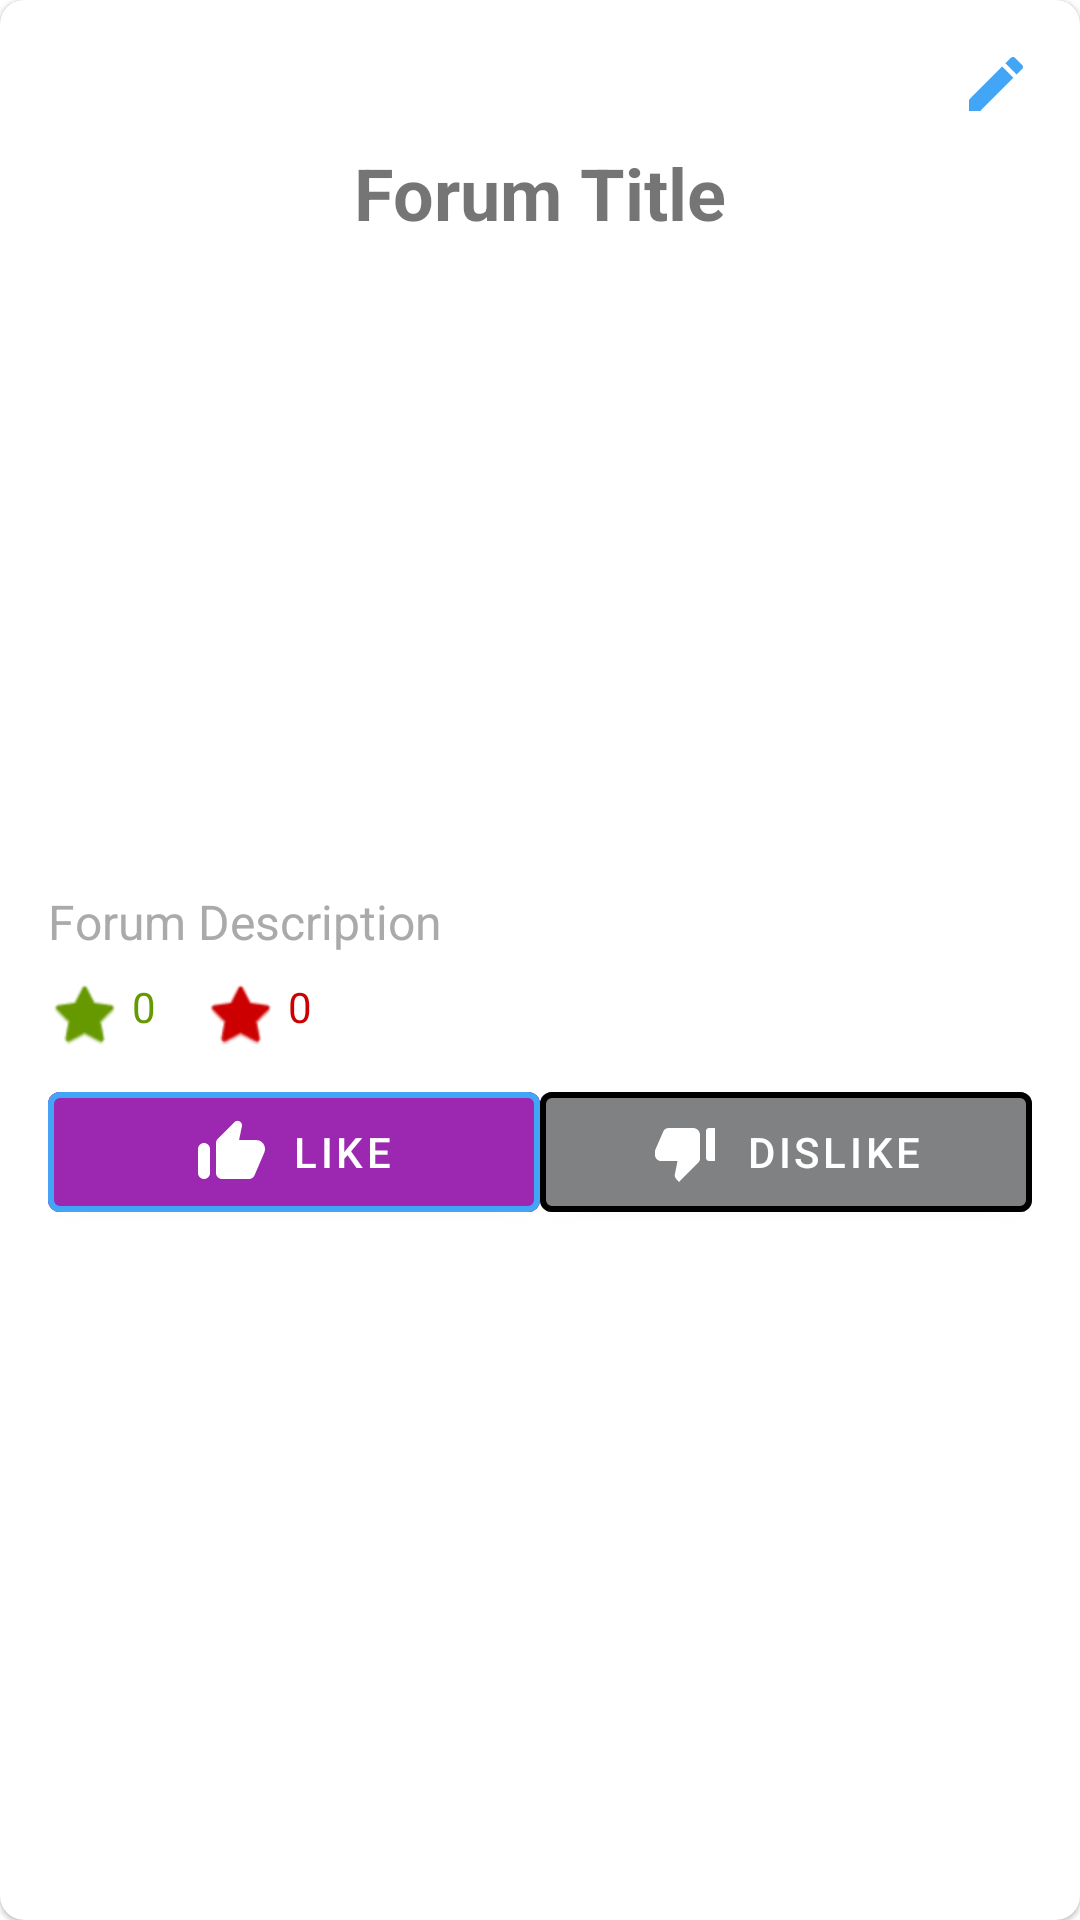

Icon click points for this 1080w x 1920h phone screenshot, format [x,y]:
pencil: [996,84]
star on: [84,1014]
